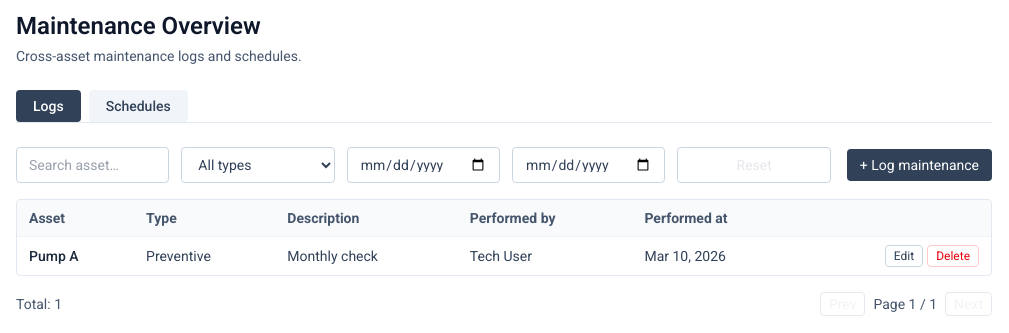
Scenario: MaintenanceOverviewPage RBAC › Technician sees maintenance write actions in Logs and Schedules
Expected: the button "+ Log maintenance" is shown, [847,149,992,181]
Expected: the button "Edit" is shown, [885,245,923,267]
Click the button "Schedules" at (138, 106), box [89,90,188,122]
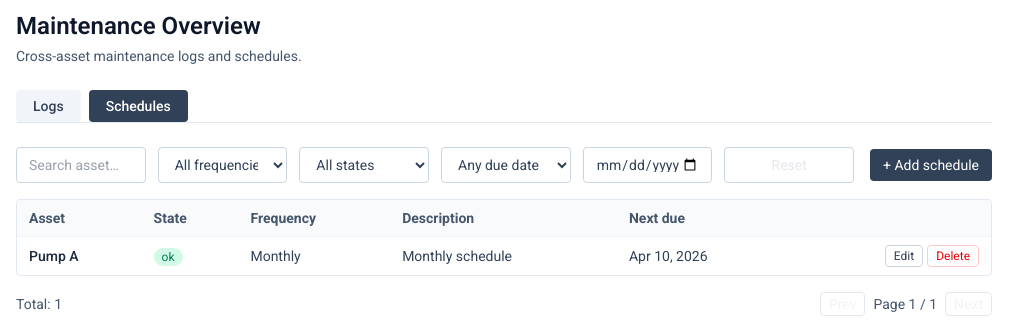
Expected: the button "Edit" is shown, [885,245,923,267]
Expected: the button "+ Add schedule" is shown, [870,149,992,181]
